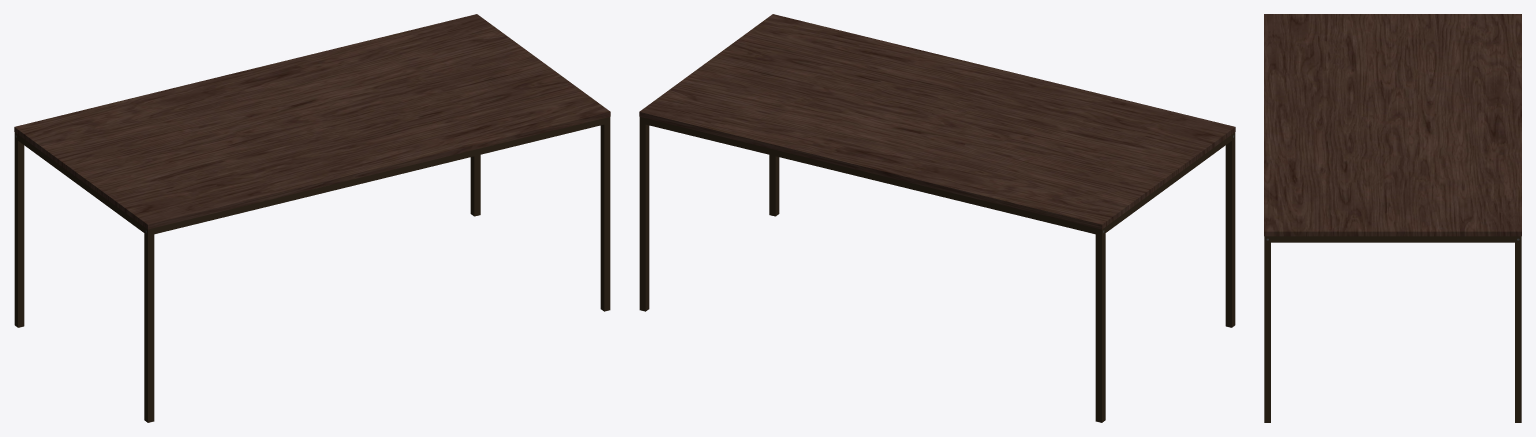
File: mesa-reuniao.glb
The picture shows the model from 3 angles, left to right: view 1: azimuth 30°, elevation 25°; view 2: azimuth 150°, elevation 25°; view 3: azimuth 270°, elevation 25°; orthographic projection. The views are drawn at different scales.
Visible parts, largest first — view 1: Cube_Material.001_0; view 2: Cube_Material.001_0; view 3: Cube_Material.001_0.
Part boxes in pixels (x1,y1,x2,y2): Cube_Material.001_0: (14,14,610,422); Cube_Material.001_0: (639,14,1235,422); Cube_Material.001_0: (1264,14,1521,422).
Bounding box in the file's own units: 150 × 61.5 × 75.09.
Materials: 1 (1 with a texture image).
